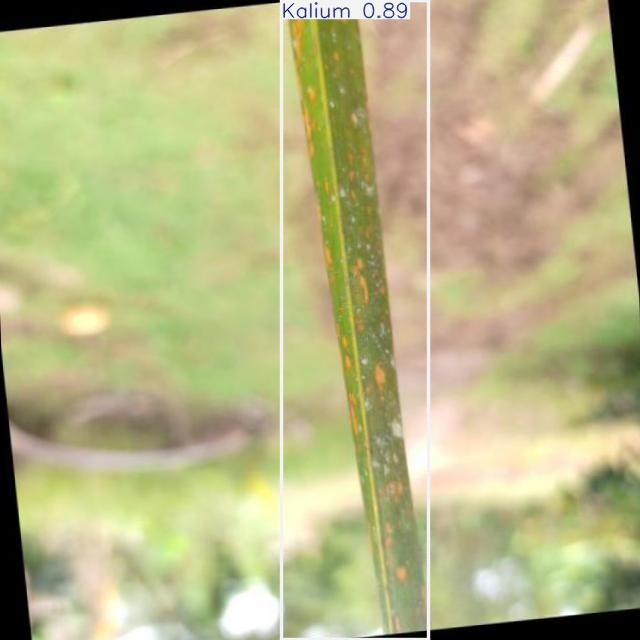Kalium: (282, 0, 428, 639)
